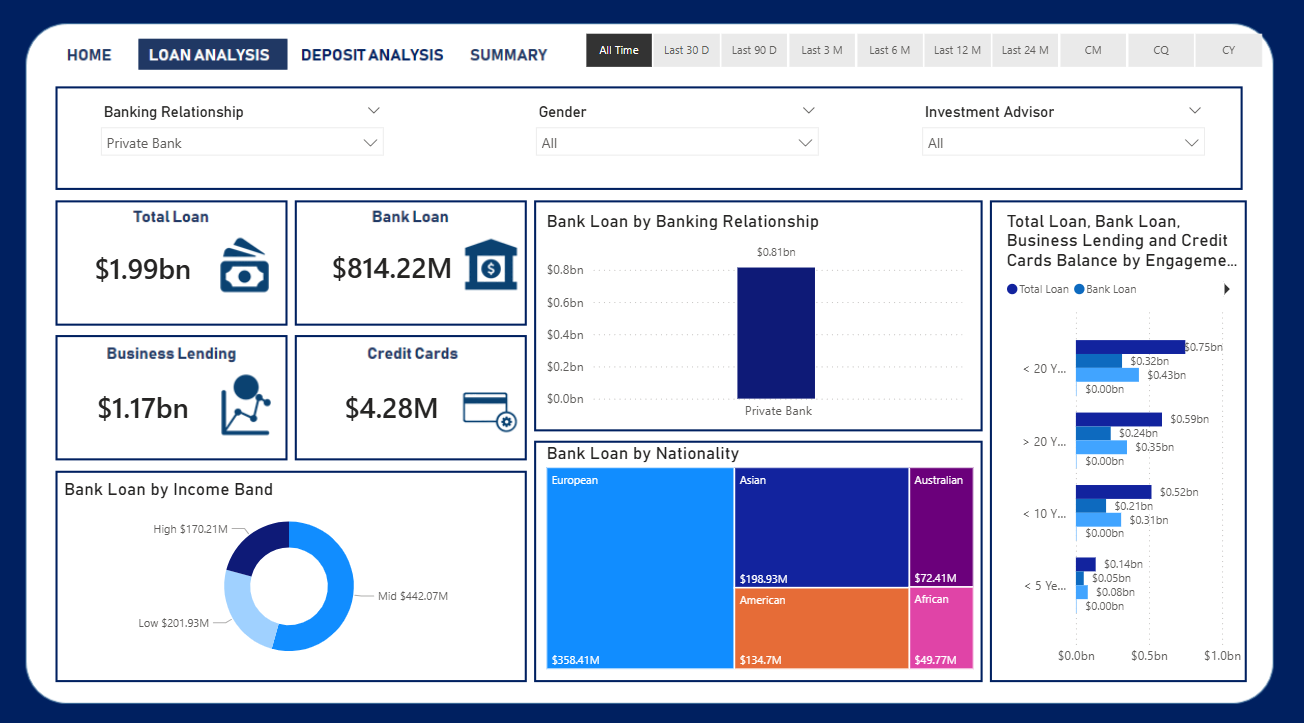

The dashboard page shown, as its layout file describes it:
{"tool":"powerbi","page":{"name":"Loan Analysis","canvas":[1280,720],"ordinal":2},"visuals":[{"type":"slicer","fields":{"Values":["banking_case customer.Year of Joining"]},"box":[733.3,32.2,504.1,34.9],"z":0},{"type":"actionButton","box":[39.8,32.6,100.1,39.8],"z":1000},{"type":"actionButton","box":[348.2,31.7,221.6,39.6],"z":2000},{"type":"actionButton","box":[587.1,31.7,123.4,39.6],"z":3000},{"type":"card","fields":{"Values":["banking_case customer.Total Loan"]},"box":[100.9,243.7,179.5,65.5],"z":4000},{"type":"card","fields":{"Values":["Sum(banking_case customer.Bank Loans)"]},"box":[369.5,243.7,179.5,65.5],"z":5000},{"type":"card","fields":{"Values":["Sum(banking_case customer.Business Lending)"]},"box":[100.9,360.4,179.5,65.5],"z":6000},{"type":"card","fields":{"Values":["Sum(banking_case customer.Credit Card Balance)"]},"box":[370.8,360.4,179.5,65.5],"z":7000},{"type":"donutChart","fields":{"Category":["banking_case customer.Income Band"],"Y":["Sum(banking_case customer.Bank Loans)"]},"box":[66.8,488.8,530.7,176.9],"z":8000},{"type":"clusteredColumnChart","fields":{"Category":["banking_case customer.BRId"],"Y":["Sum(banking_case customer.Bank Loans)"]},"box":[613.3,243.7,293.5,182.1],"z":9000},{"type":"clusteredColumnChart","fields":{"Category":["banking_case customer.Nationality"],"Y":["Sum(banking_case customer.Bank Loans)"]},"box":[613.3,488.8,293.5,182.1],"z":10000},{"type":"clusteredColumnChart","fields":{"Category":["banking_case customer.BRId"],"Y":["Sum(banking_case customer.Bank Loans)"]},"box":[933.7,245.3,292.8,425.7],"z":11000},{"type":"slicer","fields":{"Values":["banking_case customer.BRId"]},"box":[66.8,123.2,428.5,57.7],"z":12000},{"type":"slicer","fields":{"Values":["banking_case customer.GenderId"]},"box":[512.4,123.2,302.7,57.7],"z":13000},{"type":"slicer","fields":{"Values":["banking_case customer.IAId"]},"box":[843.9,123.2,364.3,57.7],"z":14000}]}

Visuals, with their boxes in screenshot pixels (x1, y1, x2, y2), scaled from the page's 1280x720 canvas onto the 1304x723 screenshot:
slicer - banking_case customer.Year of Joining: {"left": 747, "top": 32, "right": 1261, "bottom": 67}
actionButton: {"left": 41, "top": 33, "right": 143, "bottom": 73}
actionButton: {"left": 355, "top": 32, "right": 580, "bottom": 72}
actionButton: {"left": 598, "top": 32, "right": 724, "bottom": 72}
card - banking_case customer.Total Loan: {"left": 103, "top": 245, "right": 286, "bottom": 310}
card - Sum(banking_case customer.Bank Loans): {"left": 376, "top": 245, "right": 559, "bottom": 310}
card - Sum(banking_case customer.Business Lending): {"left": 103, "top": 362, "right": 286, "bottom": 428}
card - Sum(banking_case customer.Credit Card Balance): {"left": 378, "top": 362, "right": 561, "bottom": 428}
donutChart - banking_case customer.Income Band x Sum(banking_case customer.Bank Loans): {"left": 68, "top": 491, "right": 609, "bottom": 668}
clusteredColumnChart - banking_case customer.BRId x Sum(banking_case customer.Bank Loans): {"left": 625, "top": 245, "right": 924, "bottom": 428}
clusteredColumnChart - banking_case customer.Nationality x Sum(banking_case customer.Bank Loans): {"left": 625, "top": 491, "right": 924, "bottom": 674}
clusteredColumnChart - banking_case customer.BRId x Sum(banking_case customer.Bank Loans): {"left": 951, "top": 246, "right": 1249, "bottom": 674}
slicer - banking_case customer.BRId: {"left": 68, "top": 124, "right": 505, "bottom": 182}
slicer - banking_case customer.GenderId: {"left": 522, "top": 124, "right": 830, "bottom": 182}
slicer - banking_case customer.IAId: {"left": 860, "top": 124, "right": 1231, "bottom": 182}
